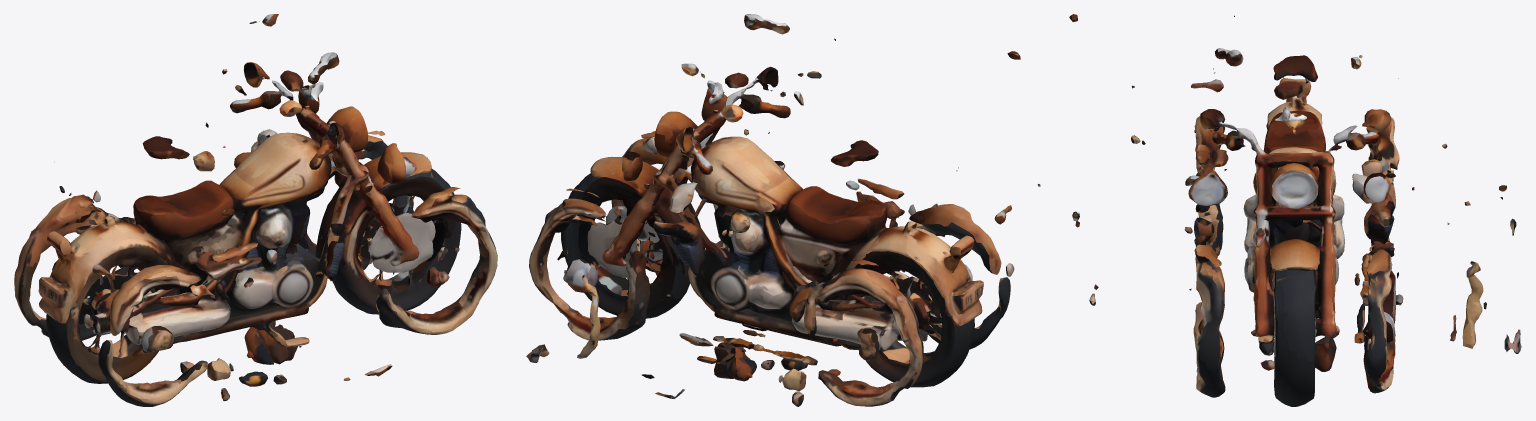
The model's file is motocicleta.glb.
The picture shows the model from 3 angles, left to right: view 1: azimuth 30°, elevation 25°; view 2: azimuth 150°, elevation 25°; view 3: azimuth 270°, elevation 25°; orthographic projection.
Visible parts, largest first — view 1: tmp49j8bkgx.ply; view 2: tmp49j8bkgx.ply; view 3: tmp49j8bkgx.ply.
Part boxes in pixels (<box>): tmp49j8bkgx.ply: <box>14,14,497,406</box>; tmp49j8bkgx.ply: <box>526,14,1040,406</box>; tmp49j8bkgx.ply: <box>1069,14,1521,406</box>.
Size of the model in its own units: 0.9935 by 0.7728 by 0.9496.
1 material, 1 textured.
